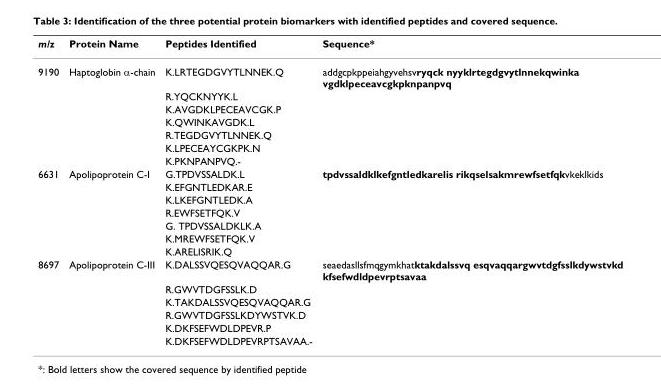table: (37, 36, 622, 346)
table column: (316, 36, 622, 346), (159, 36, 316, 346), (63, 36, 159, 346), (37, 36, 63, 346)
table column header: (37, 36, 622, 56)
table row: (37, 56, 622, 89), (37, 257, 622, 282), (37, 36, 622, 56), (37, 89, 622, 102), (37, 102, 622, 115), (37, 115, 622, 128), (37, 128, 622, 141), (37, 141, 622, 154), (37, 166, 622, 179), (37, 179, 622, 192), (37, 192, 622, 205), (37, 205, 622, 218), (37, 218, 622, 231), (37, 231, 622, 244), (37, 244, 622, 257), (37, 282, 622, 295), (37, 295, 622, 308), (37, 308, 622, 321), (37, 333, 622, 346), (37, 154, 622, 166), (37, 321, 622, 333)
table spanning cell: (37, 56, 63, 166), (37, 166, 63, 257), (37, 257, 63, 346)
